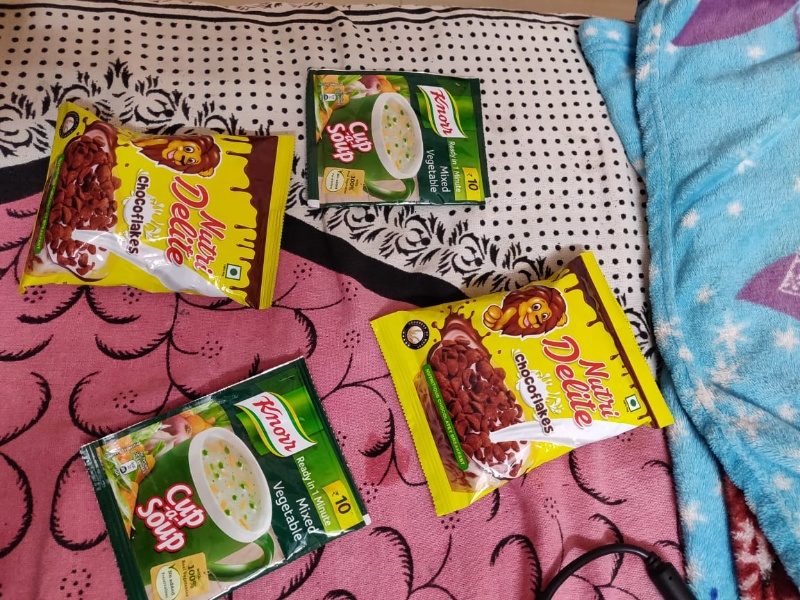Knorr_Cup_Soup: (80, 388, 385, 600), (295, 65, 502, 220)
nutriDelite: (29, 91, 299, 323), (385, 270, 669, 476)
